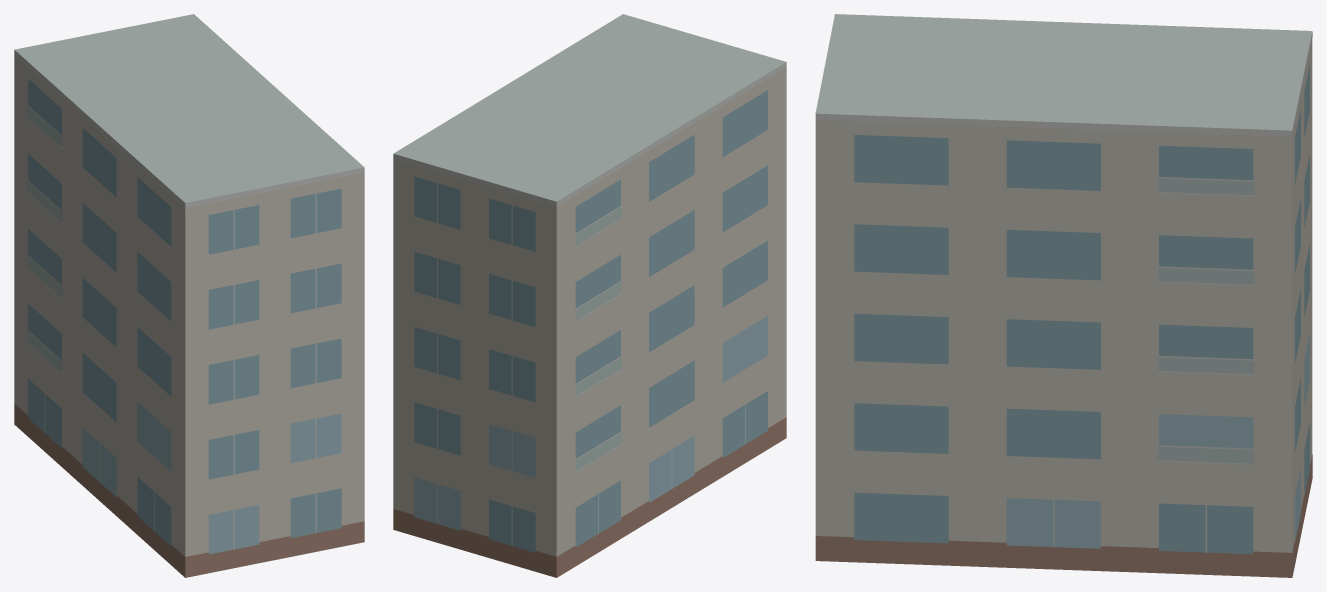
Rendered from survey-upis-32753448.glb.
3 renders of one model, left to right at view 1: azimuth 30°, elevation 25°; view 2: azimuth 150°, elevation 25°; view 3: azimuth 270°, elevation 25°, orthographic. The views are drawn at different scales.
Parts seen in each view (by area): view 1: survey-upis-32753448.tmp; view 2: survey-upis-32753448.tmp; view 3: survey-upis-32753448.tmp.
Part boxes in pixels (box(x1,y1,x2,y2)): survey-upis-32753448.tmp: box(14, 14, 364, 577); survey-upis-32753448.tmp: box(393, 14, 786, 577); survey-upis-32753448.tmp: box(815, 14, 1312, 577).
Size of the model in its own units: 9.8 by 17.5 by 17.64.
